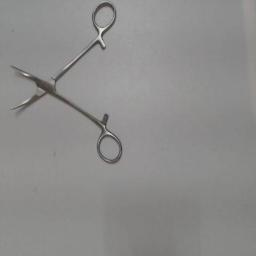Crile Artery Forceps: (5, 2, 125, 168)
